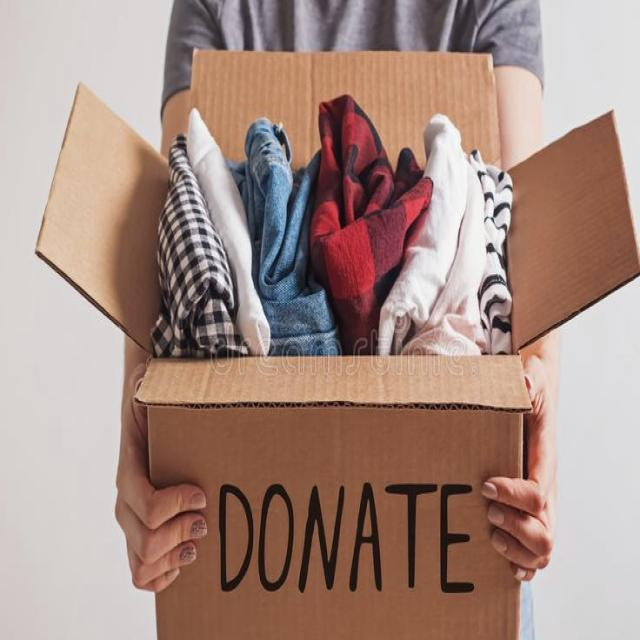clothes: (302, 78, 408, 372), (413, 106, 516, 380), (192, 122, 314, 345), (157, 150, 230, 356), (254, 113, 314, 344)
